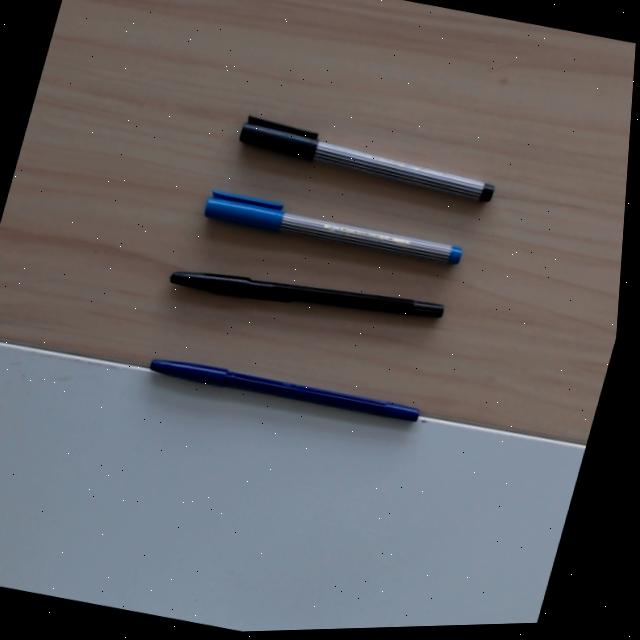Pulpen-Biru: (148, 353, 419, 426)
Pulpen-Garis-Biru: (203, 189, 463, 267)
Pulpen-Garis-Hitam: (237, 112, 496, 213)
Pulpen-Hitam: (168, 266, 443, 323)
